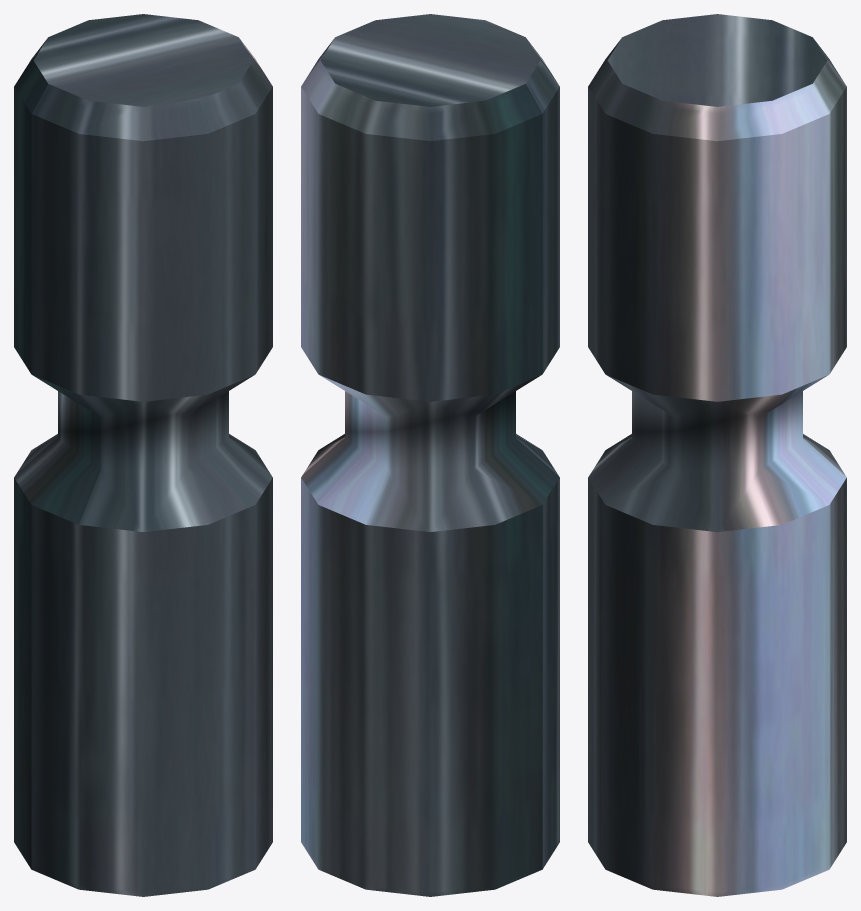
The model's file is PegMetalT9.fbx.
3 views of the same model, side by side, from view 1: azimuth 30°, elevation 25°; view 2: azimuth 150°, elevation 25°; view 3: azimuth 270°, elevation 25° (orthographic).
Parts seen in each view (by area): view 1: PegMetalT9; view 2: PegMetalT9; view 3: PegMetalT9.
Part boxes in pixels (x1,y1,x2,y2): PegMetalT9: [14, 14, 272, 896]; PegMetalT9: [301, 14, 559, 896]; PegMetalT9: [588, 14, 846, 896].
Size of the model in its own units: 0.923 by 3.08 by 0.9227.
Materials: 1 (1 with a texture image).
